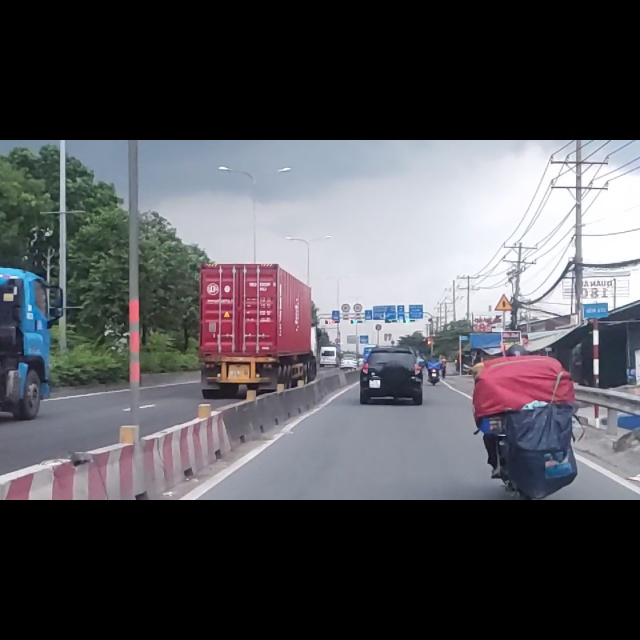bien_cam: (493, 273, 513, 305)
